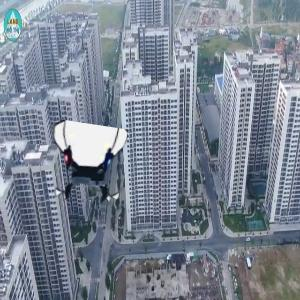drone: (48, 125, 131, 208)
